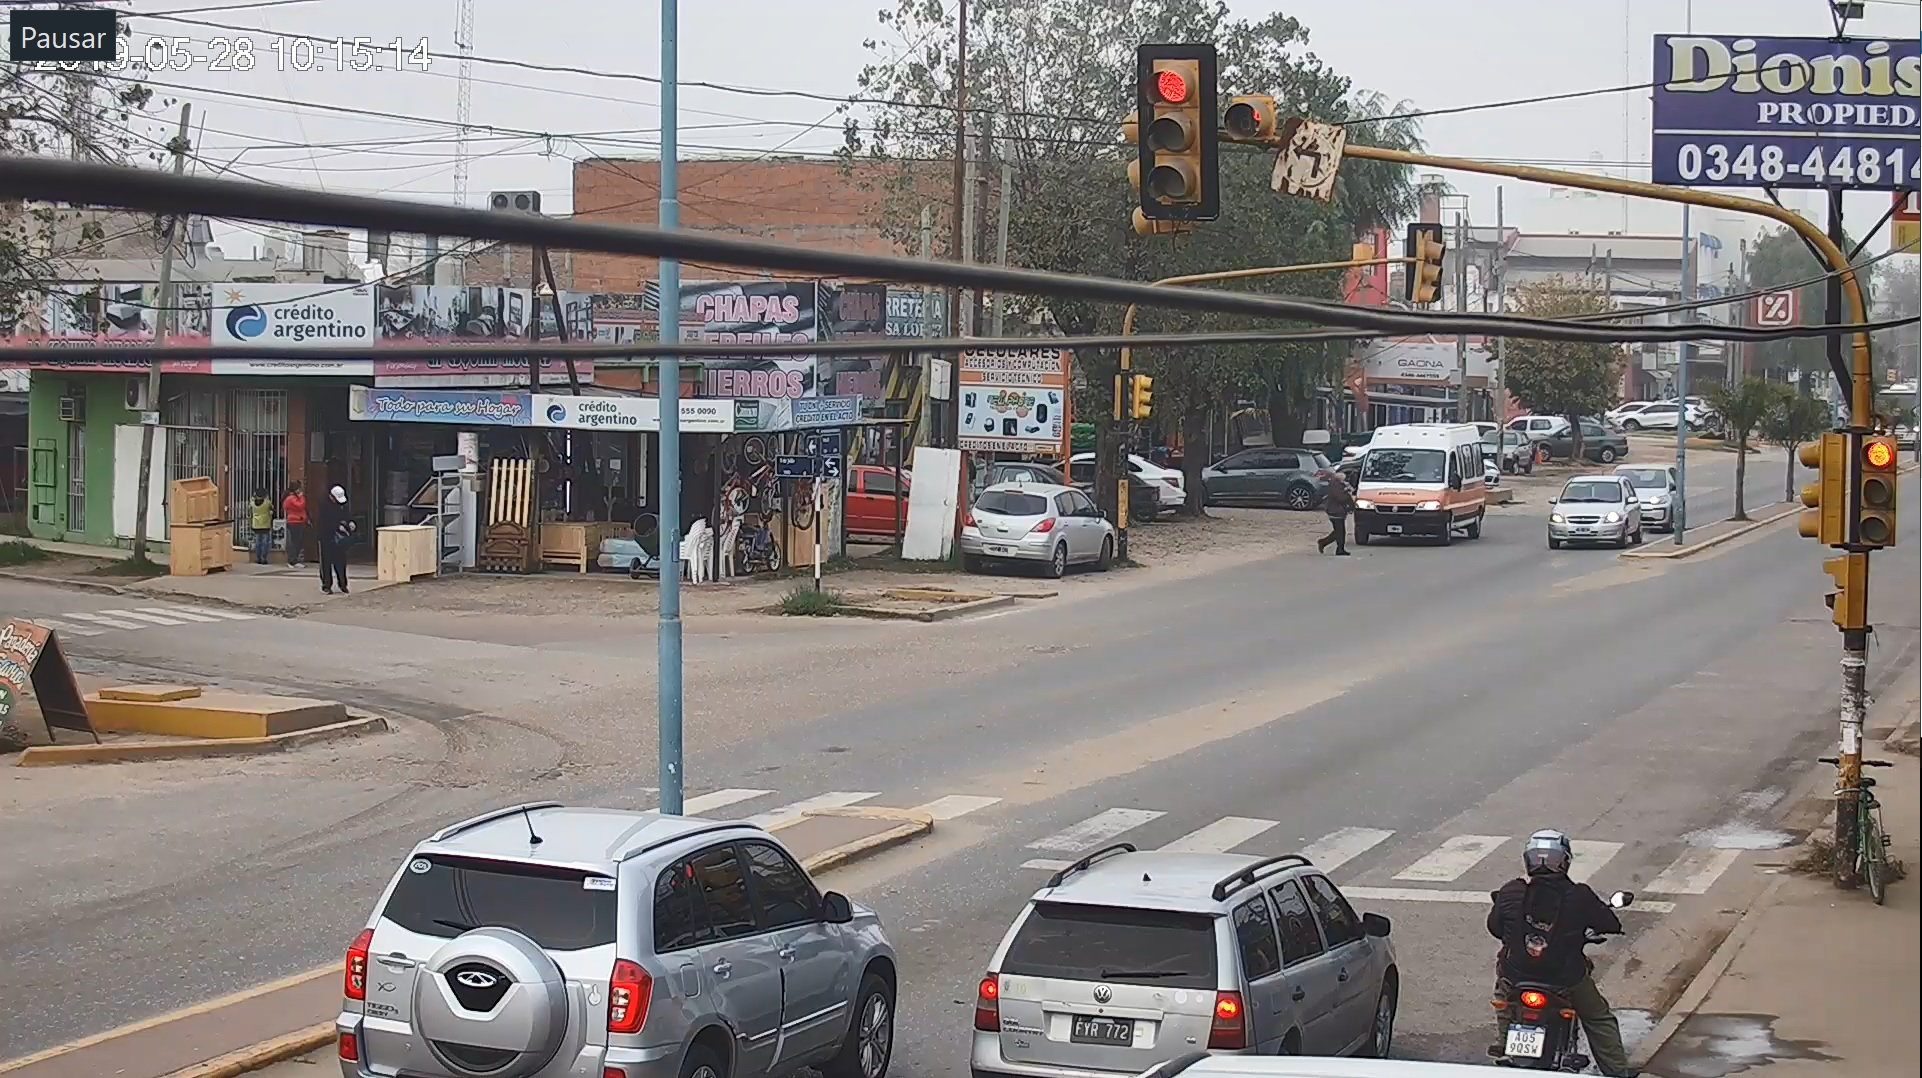car: (315, 810, 912, 1078), (958, 829, 1410, 1078), (1341, 421, 1492, 549), (958, 471, 1119, 581), (1548, 467, 1642, 558)
motorcycle: (1460, 822, 1643, 1078)
